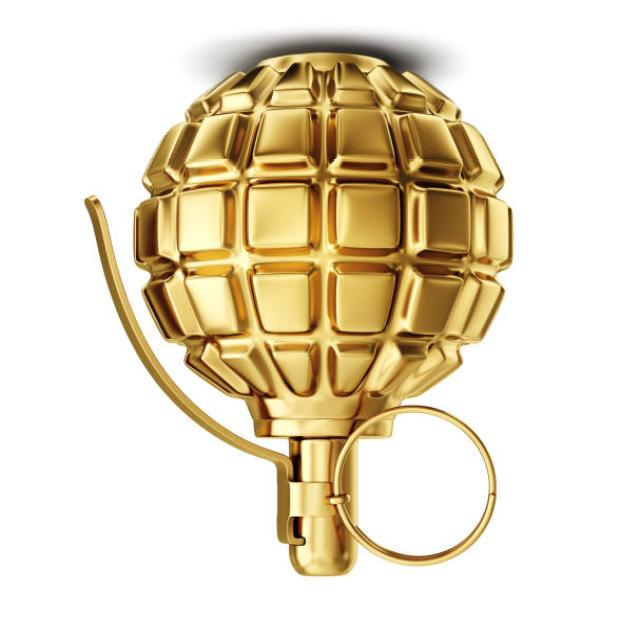grenade: (67, 47, 525, 586)
